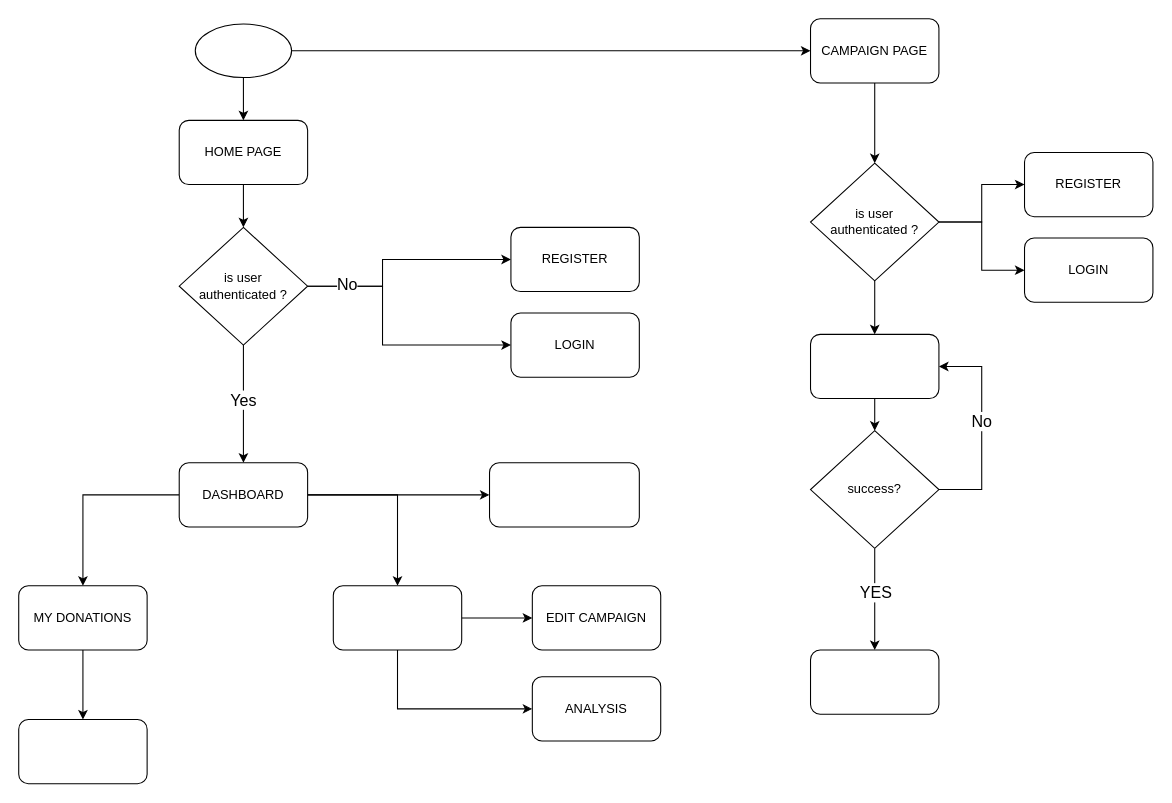
Image size: 1172x803. Some labels were removed from this diagram. Here are the shapes that lost their labels. From the top down, the box of each, then its label:
(194, 23, 292, 78): START
(809, 333, 939, 399): PAYMENT
(488, 462, 639, 527): PROFILE SETTINGS
(332, 585, 462, 650): MY CAMPAIGNS
(809, 649, 939, 714): SUCCESS PAGE
(18, 719, 147, 784): DETAILS
